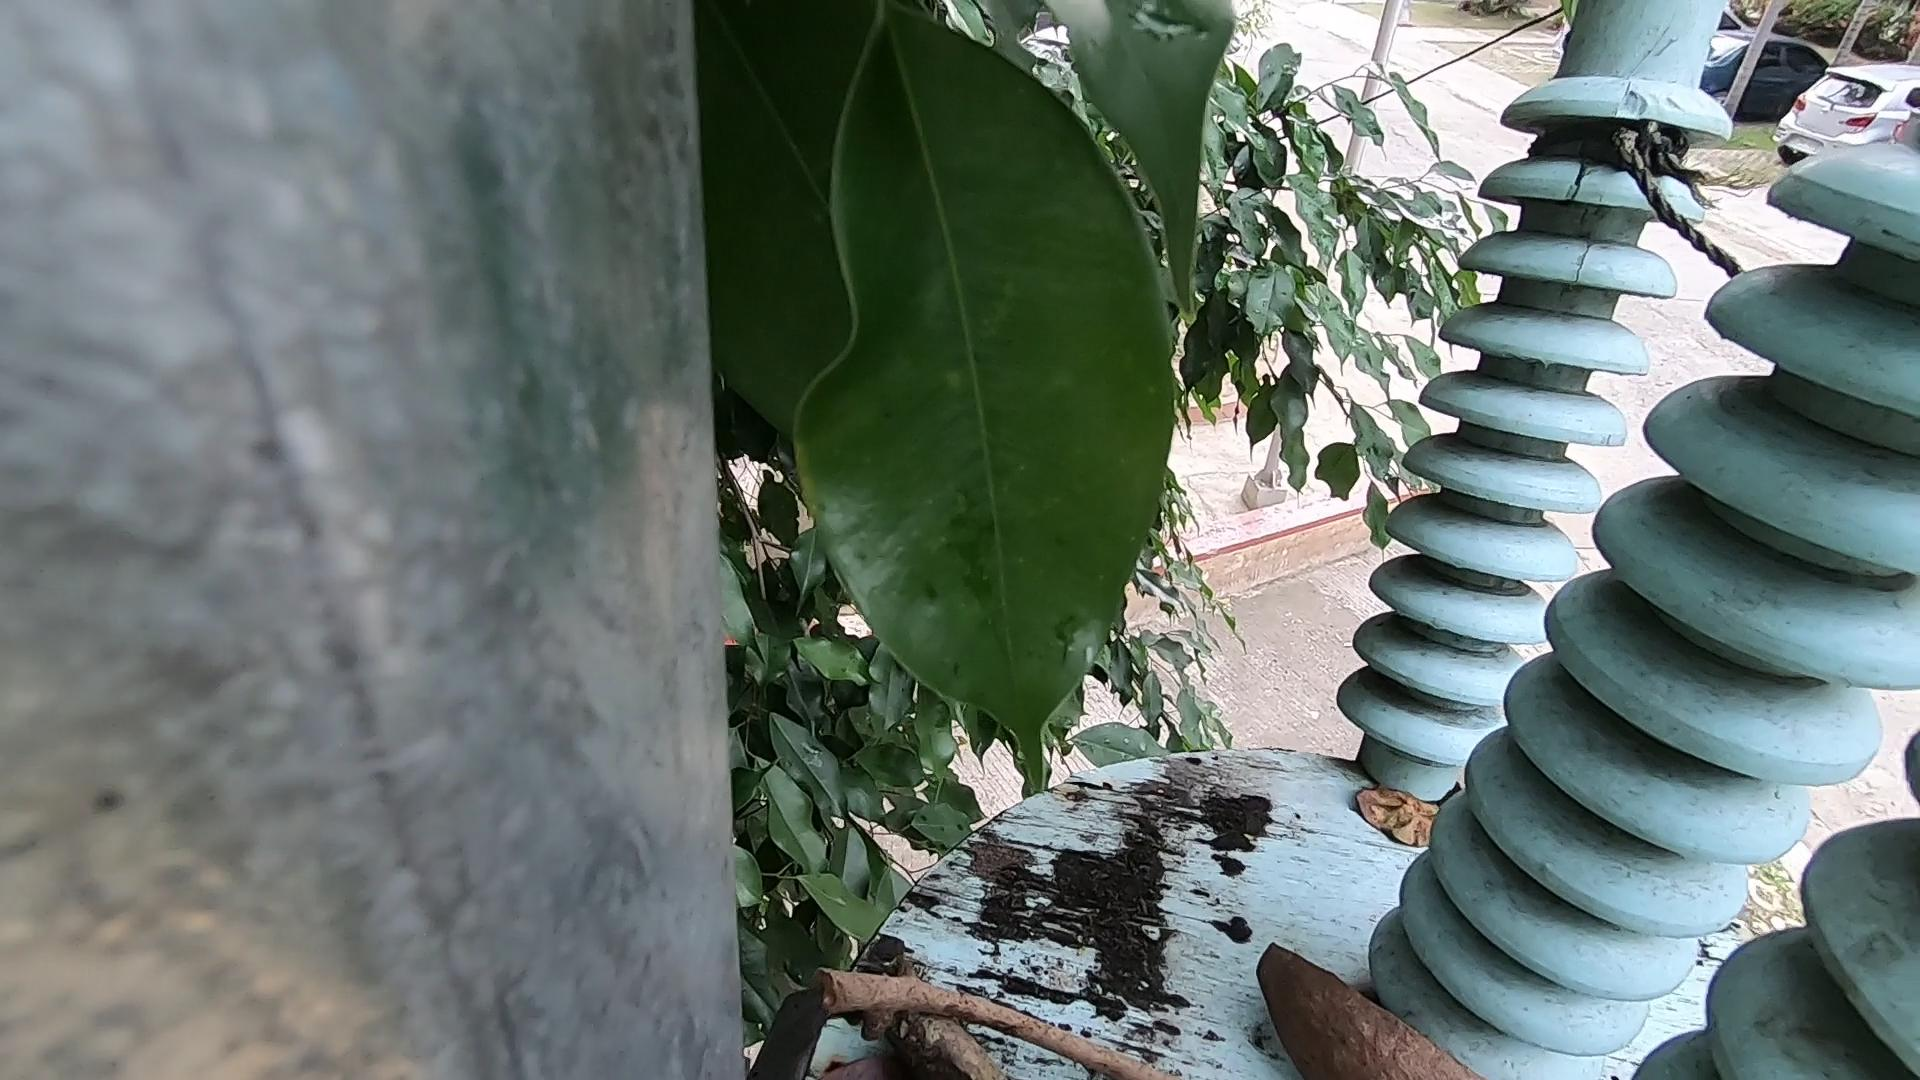branch with leaves: (885, 944, 984, 1080)
leaf: (1308, 760, 1484, 872)
mahogany fruit: (1249, 936, 1465, 1080)
tree branch: (810, 957, 1207, 1080)
